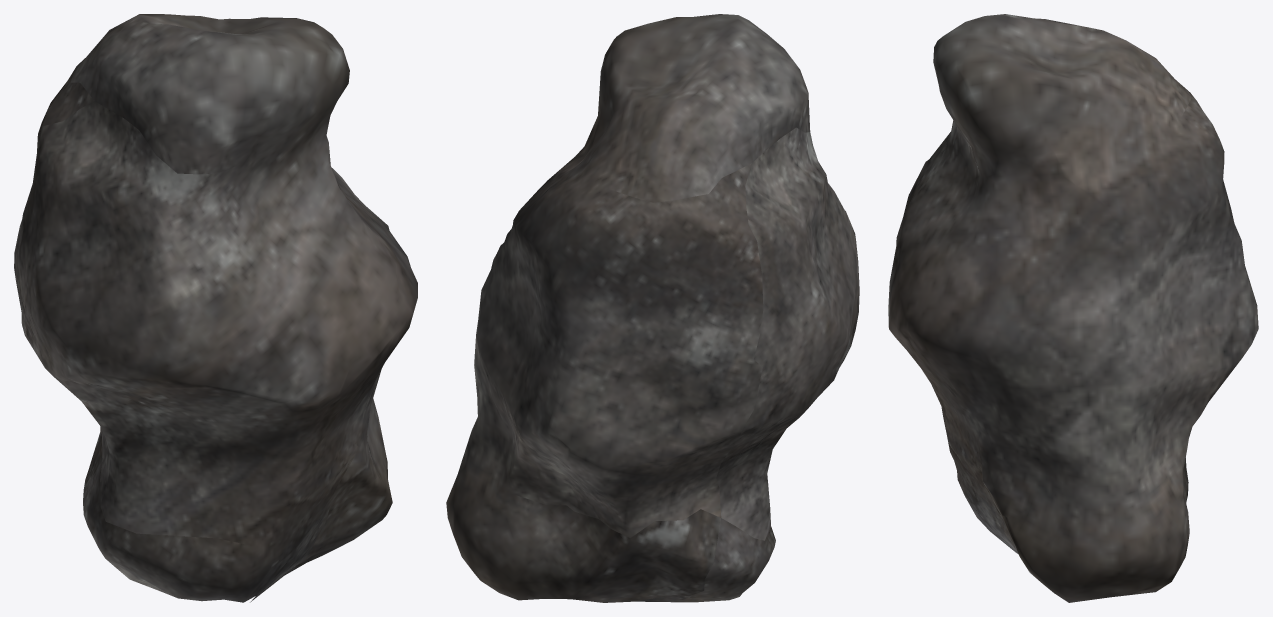
File: N_Rock_5.fbx
3 views of the same model, side by side, from view 1: azimuth 30°, elevation 25°; view 2: azimuth 150°, elevation 25°; view 3: azimuth 270°, elevation 25° (orthographic). The views are drawn at different scales.
Parts seen in each view (by area): view 1: Large_4; view 2: Large_4; view 3: Large_4.
Boxes of the visible parts, box(x1,y1,x2,y2) form: Large_4: box(14, 14, 417, 602); Large_4: box(446, 14, 859, 602); Large_4: box(888, 14, 1258, 602).
Size of the model in its own units: 308 by 468 by 303.
